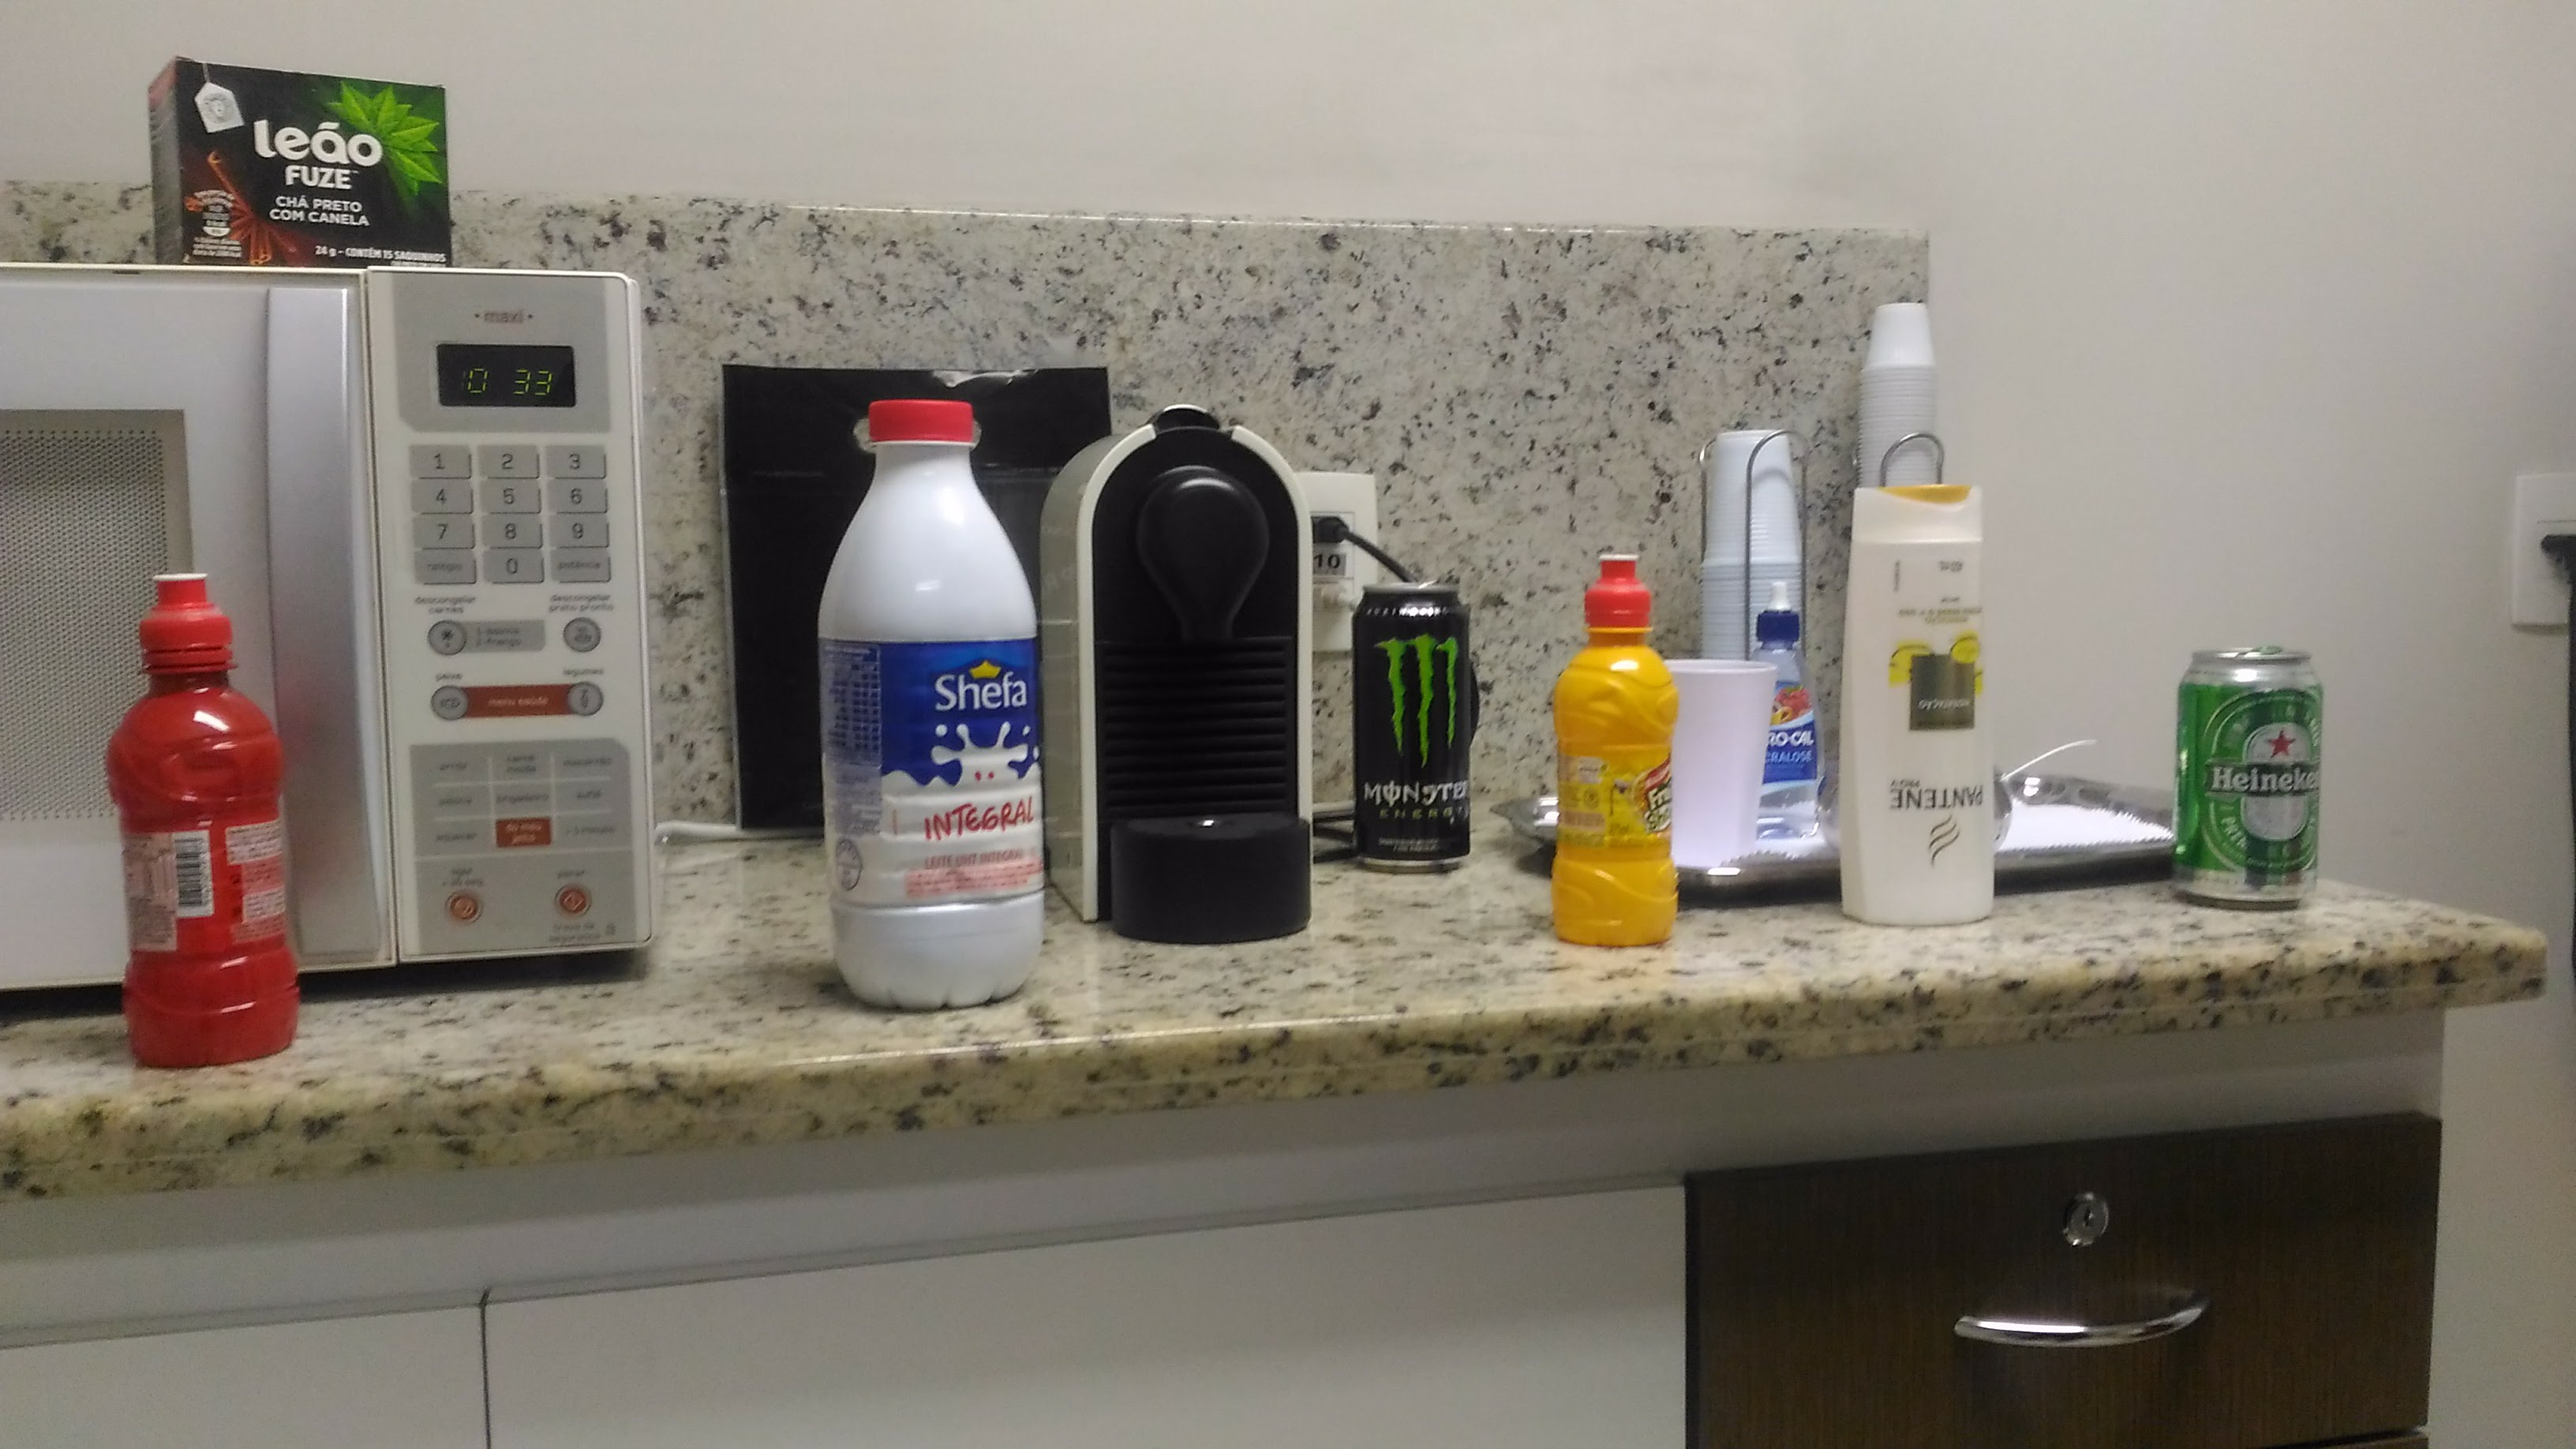heineken: (2166, 637, 2330, 927)
milk_bottle: (801, 393, 1062, 1024)
monster: (1339, 566, 1481, 885)
red_juice: (96, 556, 313, 1077)
shampoo: (1831, 469, 2015, 938)
tea_box: (140, 51, 460, 269)
yellow_juice: (1534, 540, 1691, 961)
